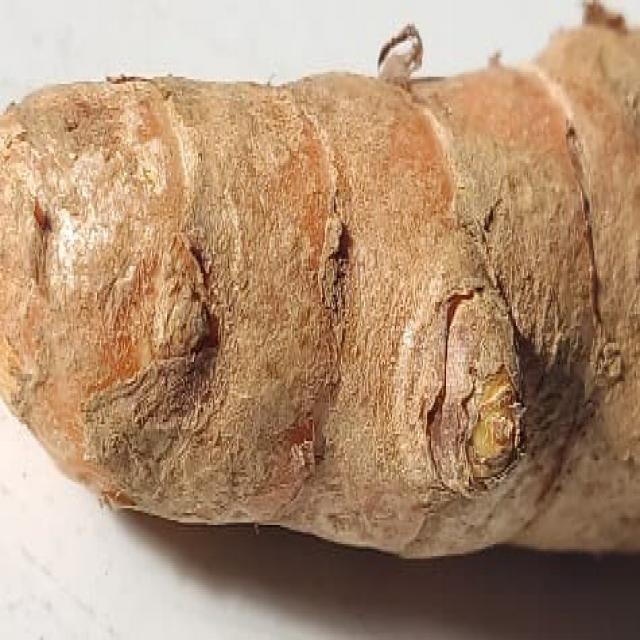ginger: (0, 72, 640, 559)
